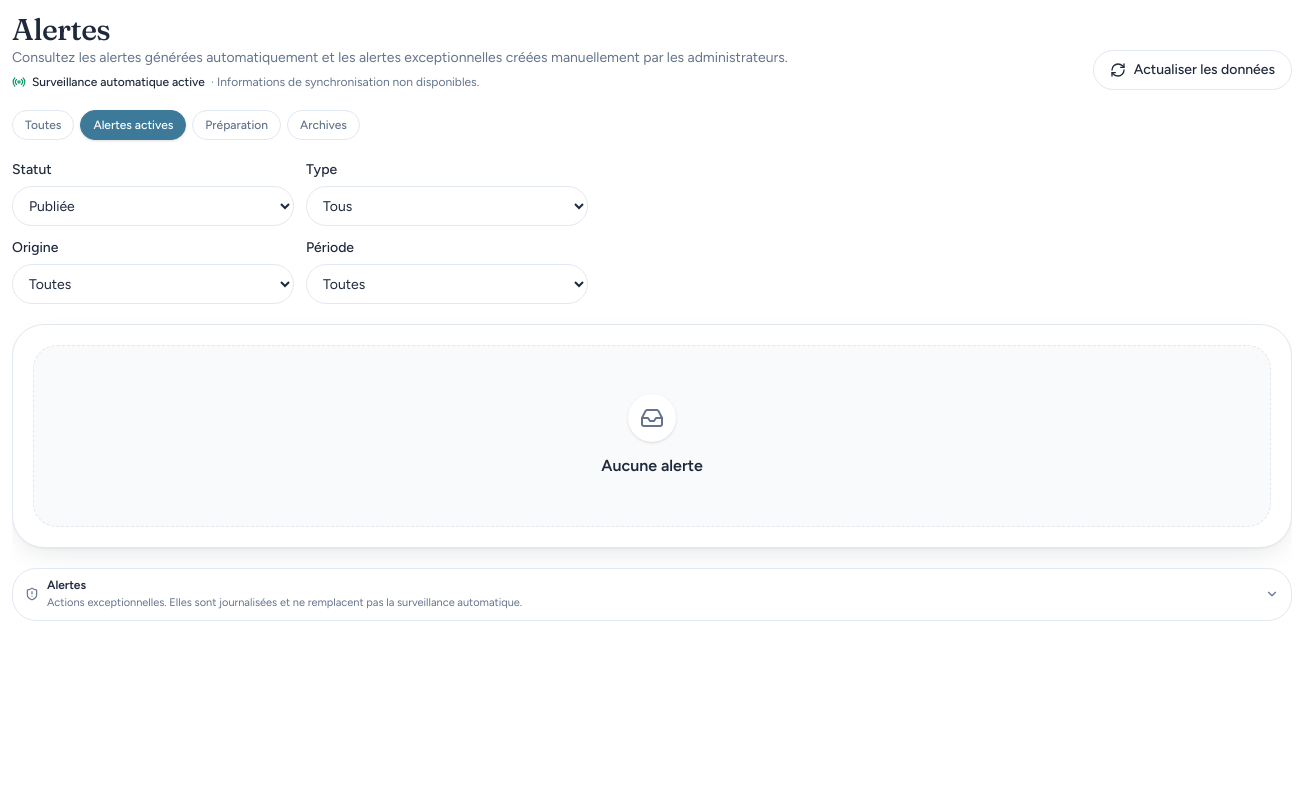
Scenario: AlertesPage — création d’une alerte exceptionnelle › affiche l’action autorisée pour ADMIN
Step 1. Click the button "Actions exceptionnelles" → x=67, y=585, box [13, 569, 1291, 620]
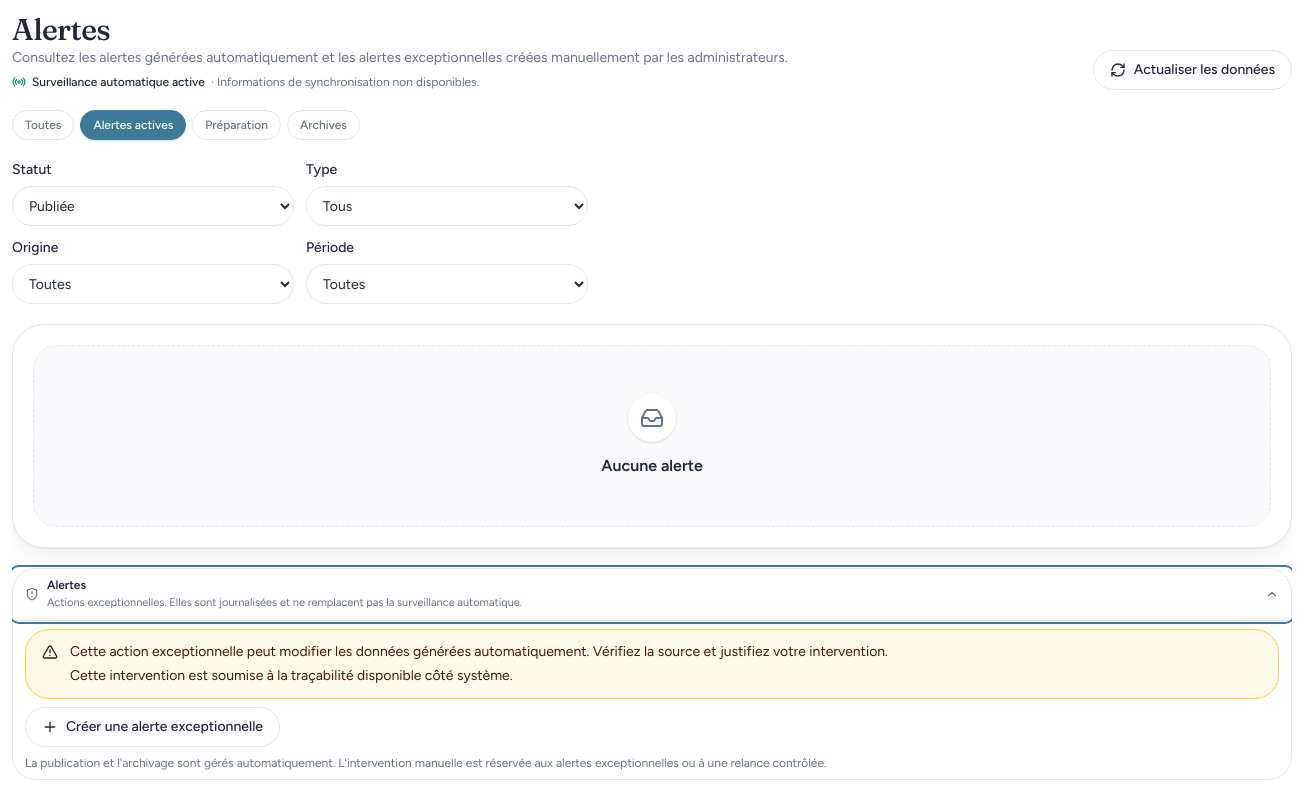
Check: the button "Créer une alerte exceptionnelle" is shown, box [25, 706, 280, 746]
